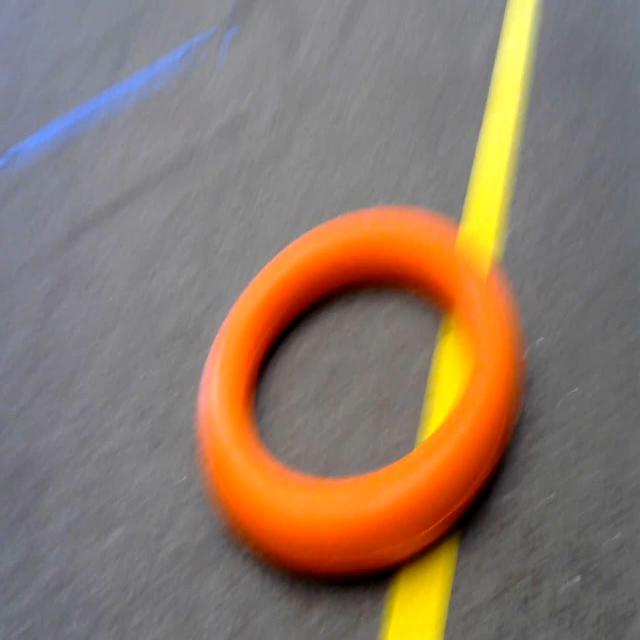note: (196, 198, 554, 574)
